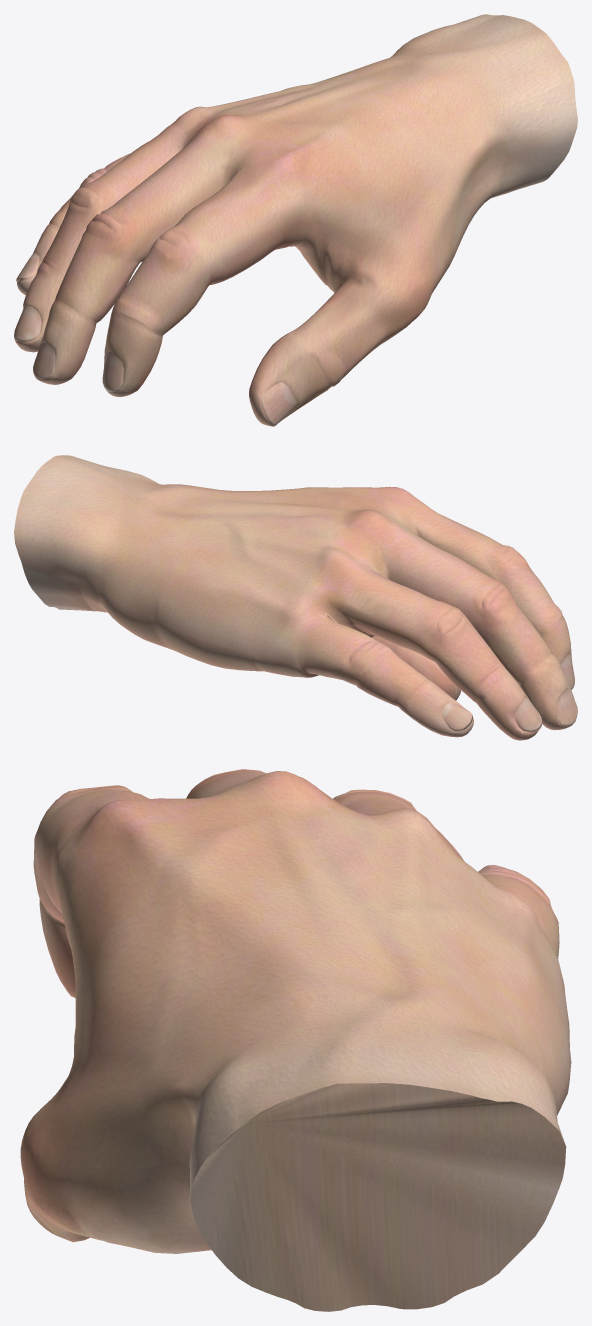
The model's file is hand_04.obj.
3 views of the same model, one above another, from view 1: azimuth 30°, elevation 25°; view 2: azimuth 150°, elevation 25°; view 3: azimuth 270°, elevation 25° (orthographic). The views are drawn at different scales.
Parts seen in each view (by area): view 1: Figure_2; view 2: Figure_2; view 3: Figure_2.
Part boxes in pixels (left/top/right/bottom): Figure_2: left=14, top=14, right=577, bottom=426; Figure_2: left=14, top=455, right=577, bottom=740; Figure_2: left=20, top=769, right=571, bottom=1311.
Bounding box in the file's own units: 0.8177 × 0.3707 × 0.3973.
2 materials, 2 textured.
